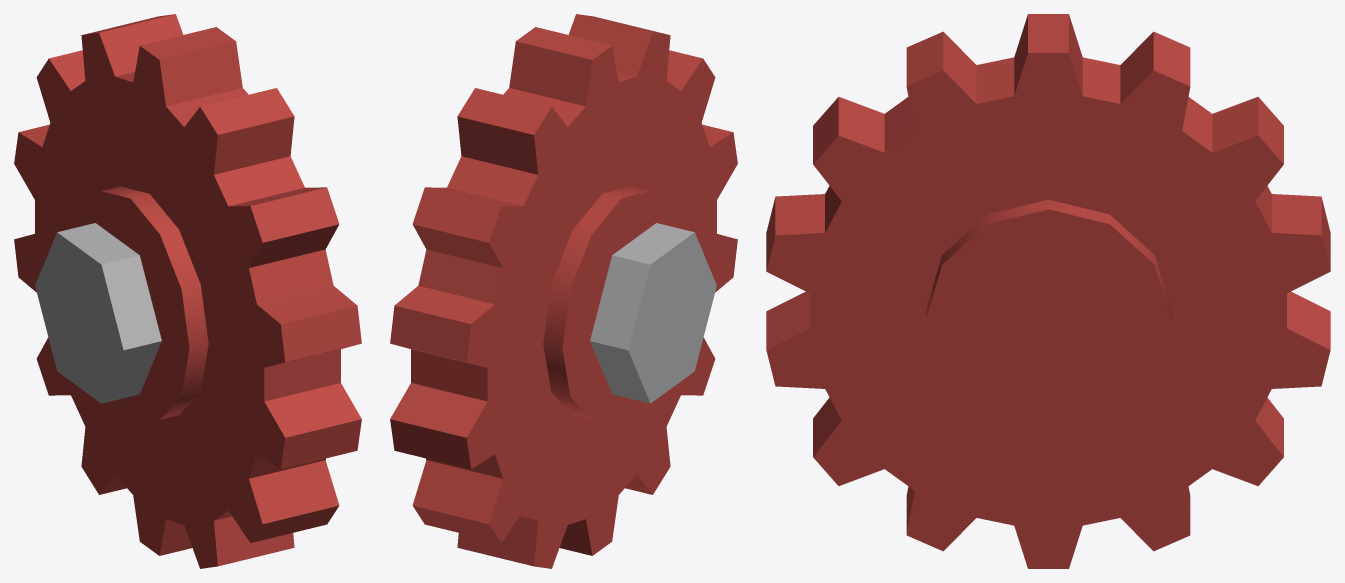
The model's file is front_14.glb.
3 renders of one model, left to right at view 1: azimuth 30°, elevation 25°; view 2: azimuth 150°, elevation 25°; view 3: azimuth 270°, elevation 25°, orthographic. The views are drawn at different scales.
Parts seen in each view (by area): view 1: lod0; view 2: lod0; view 3: lod0.
Boxes of the visible parts, bbox=[...] form: lod0: bbox=[14, 14, 361, 568]; lod0: bbox=[390, 14, 737, 568]; lod0: bbox=[766, 14, 1330, 568].
Size of what is drawn, in the model's own units: 0.026 by 0.0742 by 0.0735.
